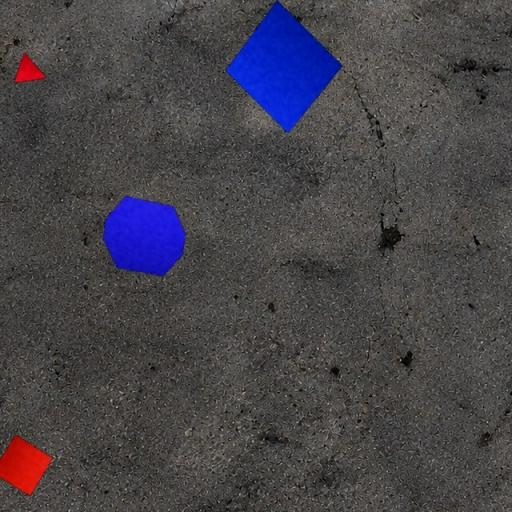BLUE_SQUARE: (224, 0, 343, 134)
RED_SQUARE: (0, 434, 54, 497)
